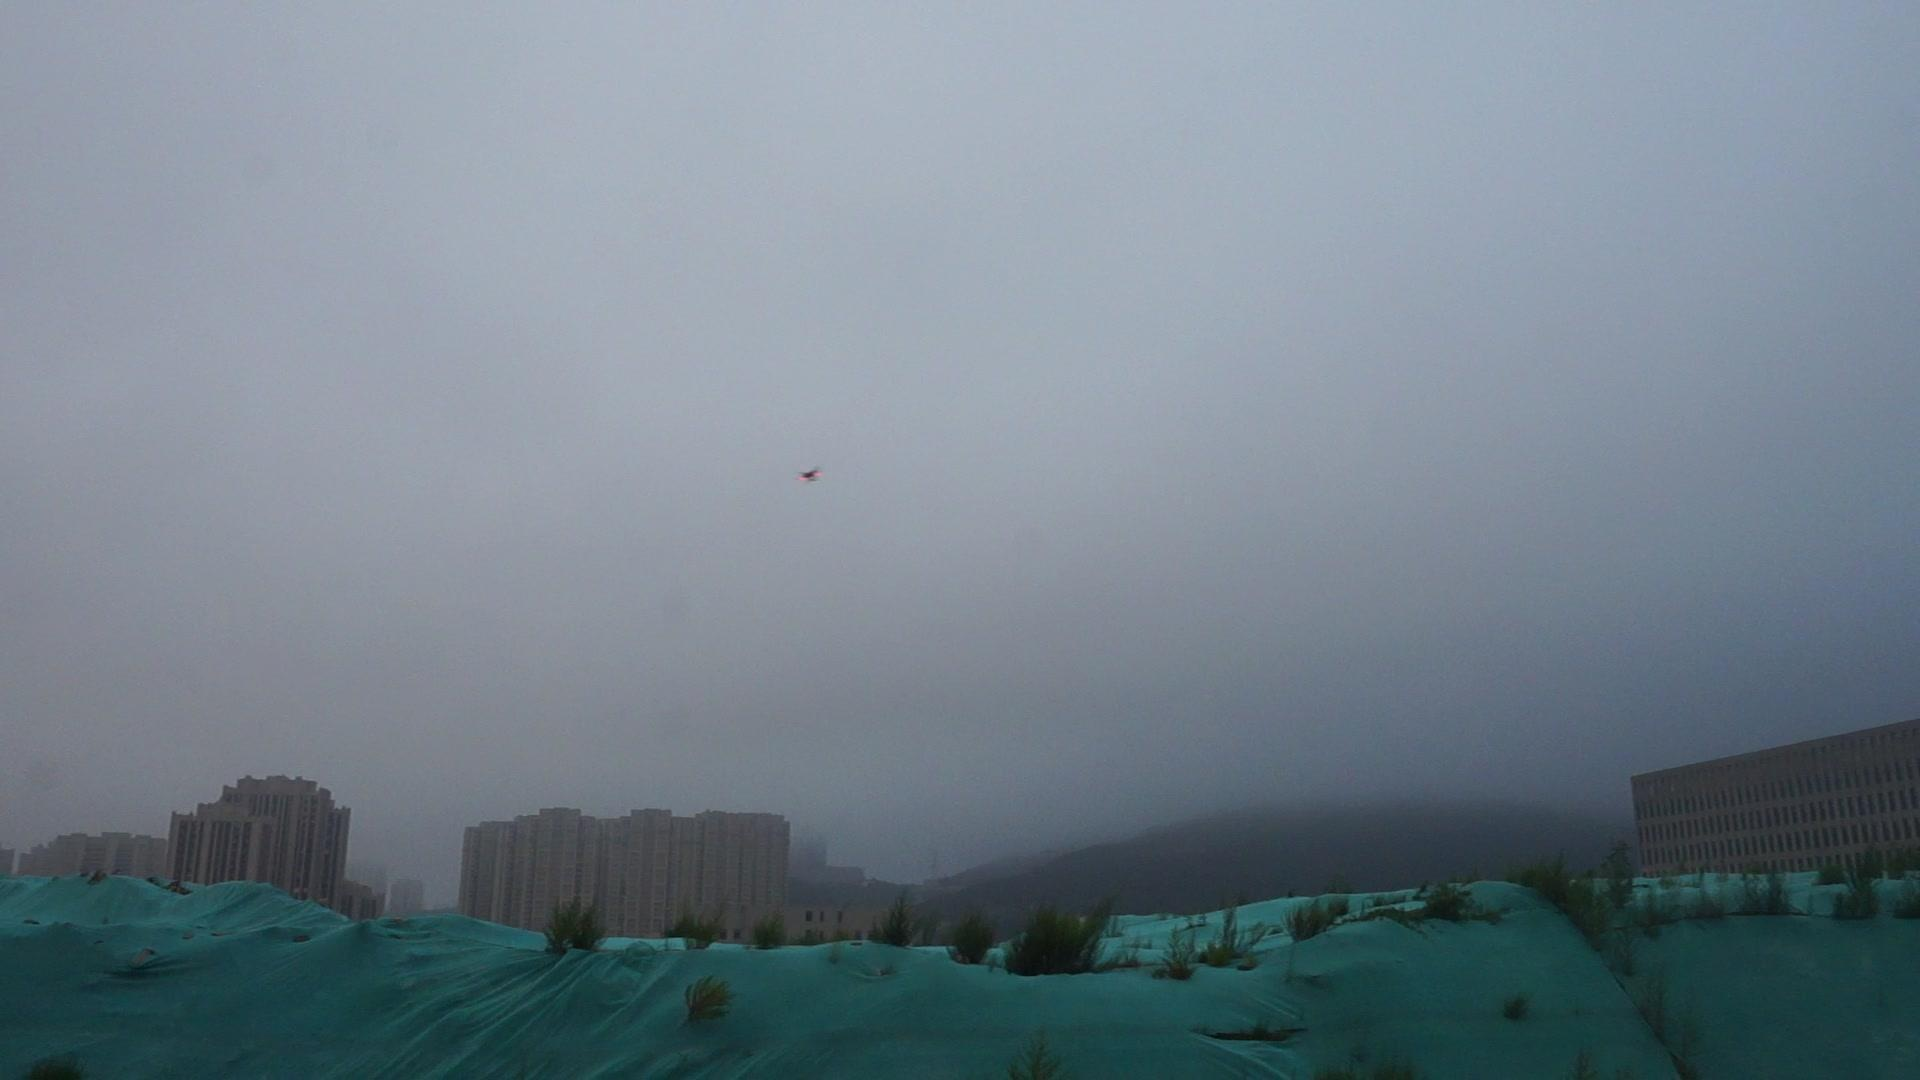UAV: (796, 469, 825, 483)
